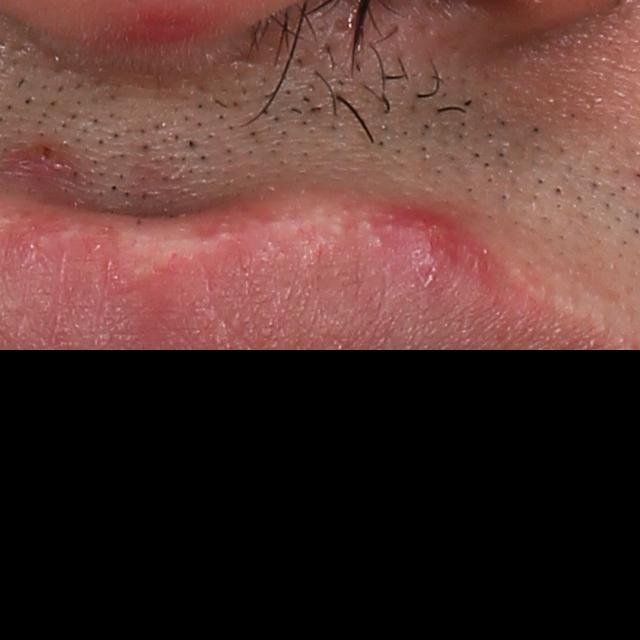papule: (387, 202, 474, 284), (24, 139, 68, 171)
